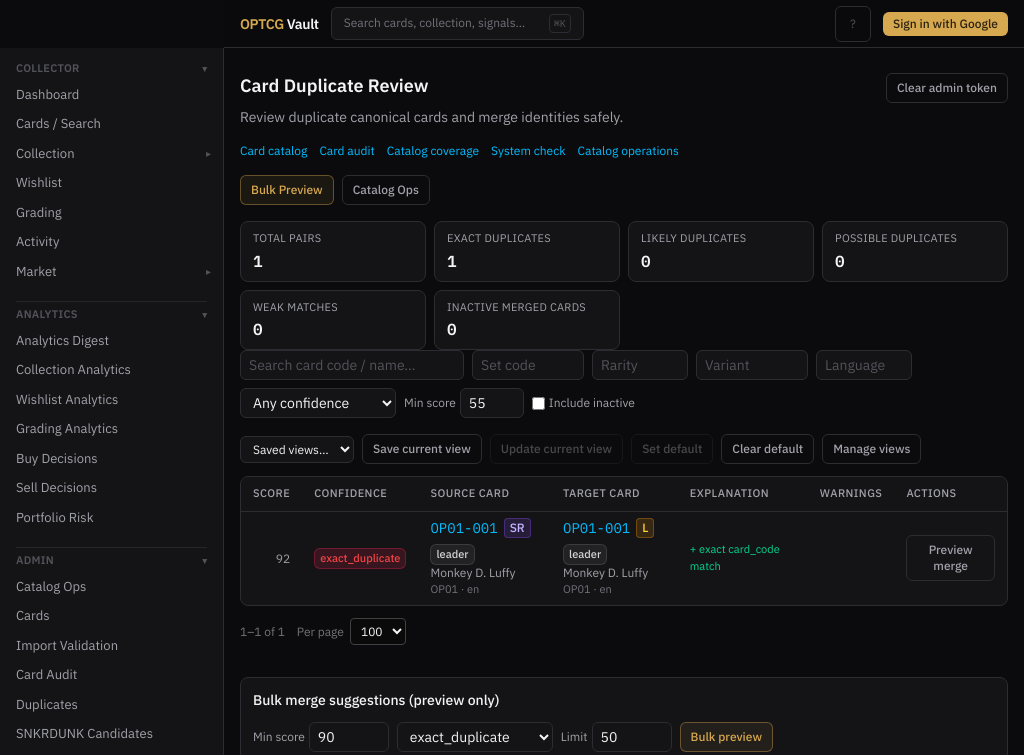
Test: CardDuplicatesPage › requires typing MERGE before execute merge is enabled
The width and height of the screenshot is (1024, 755).
Expected: the link "OP01-001" next to "SR" is shown, [430,518,498,538]
Click the button "Preview merge". click: [951, 558]
box: [906,535,995,581]
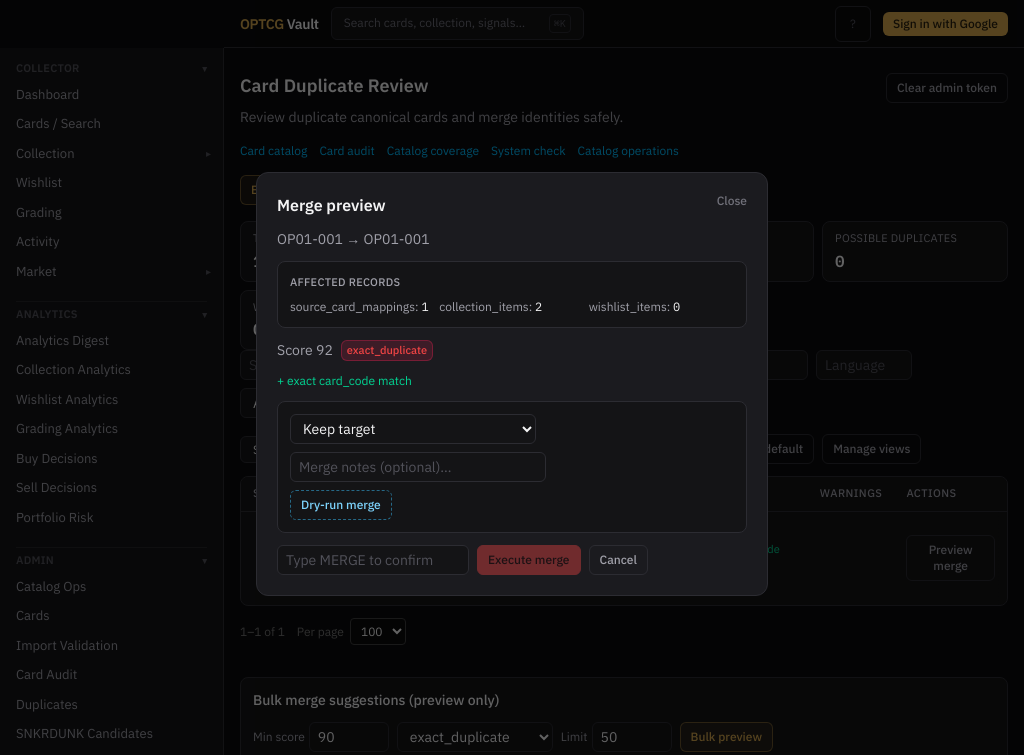
Expected: the button "Execute merge" is disabled, [477,545,580,575]
Type "MERGE" into the field with placeholder "Type MERGE to confirm". click: [373, 560]
box: [277,545,469,575]
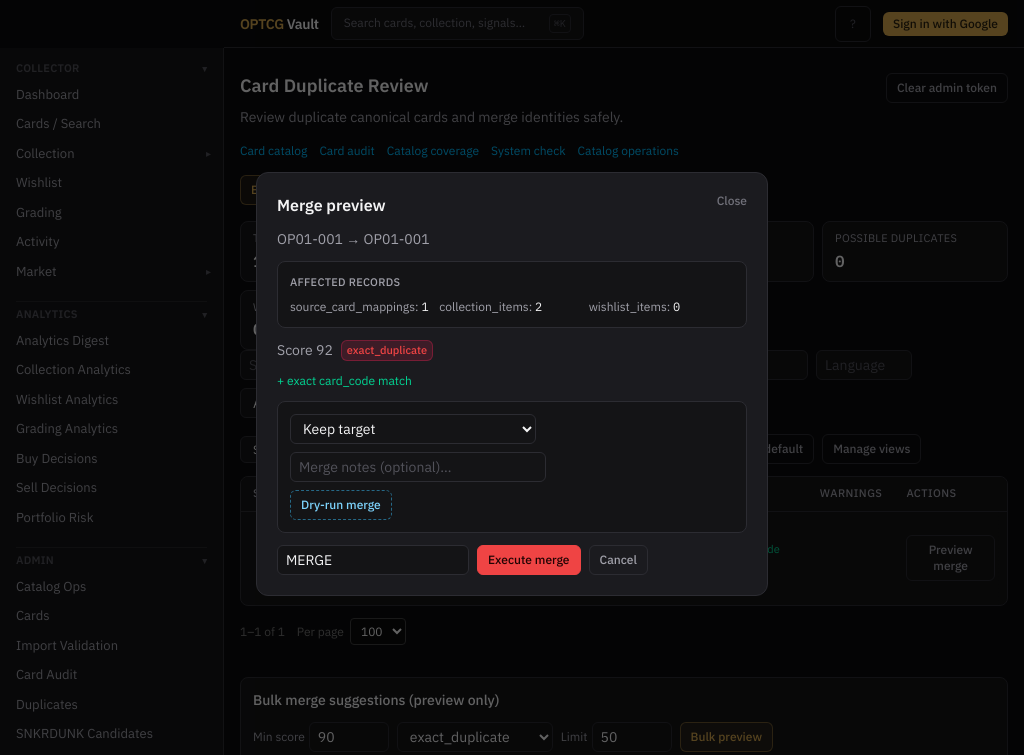
Expected: the button "Execute merge" is enabled, [477,545,580,575]
